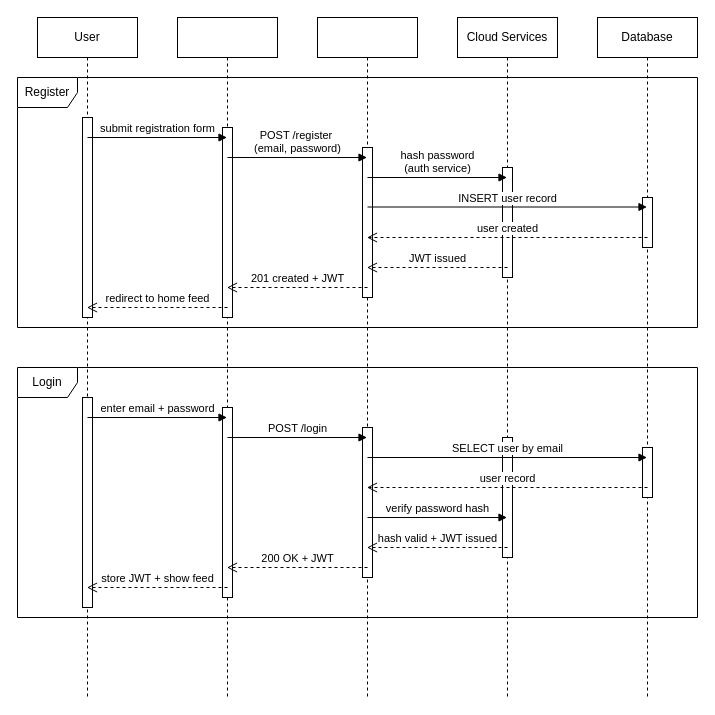
Image size: 715x715. Some labels were removed from this diagram. Each missing label, with the box of its shape:
Backend API: (316, 16, 418, 698)
Browser / UI: (176, 16, 278, 698)
